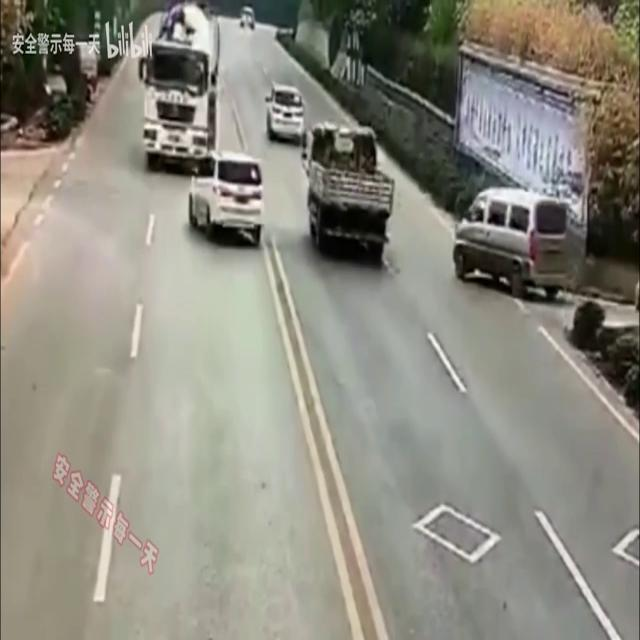normal: (293, 90, 425, 270), (463, 175, 583, 325), (137, 0, 225, 172), (167, 137, 287, 247), (257, 43, 307, 145)
